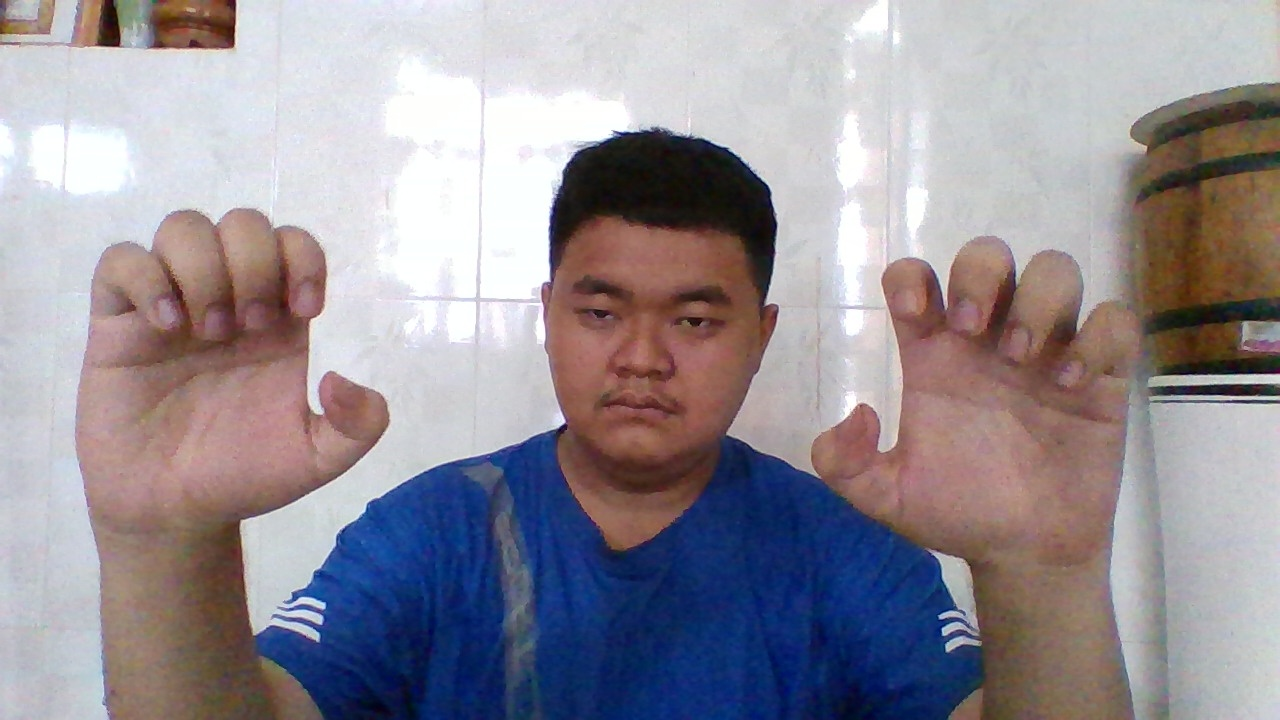E: (818, 233, 1133, 563), (102, 204, 394, 530)
